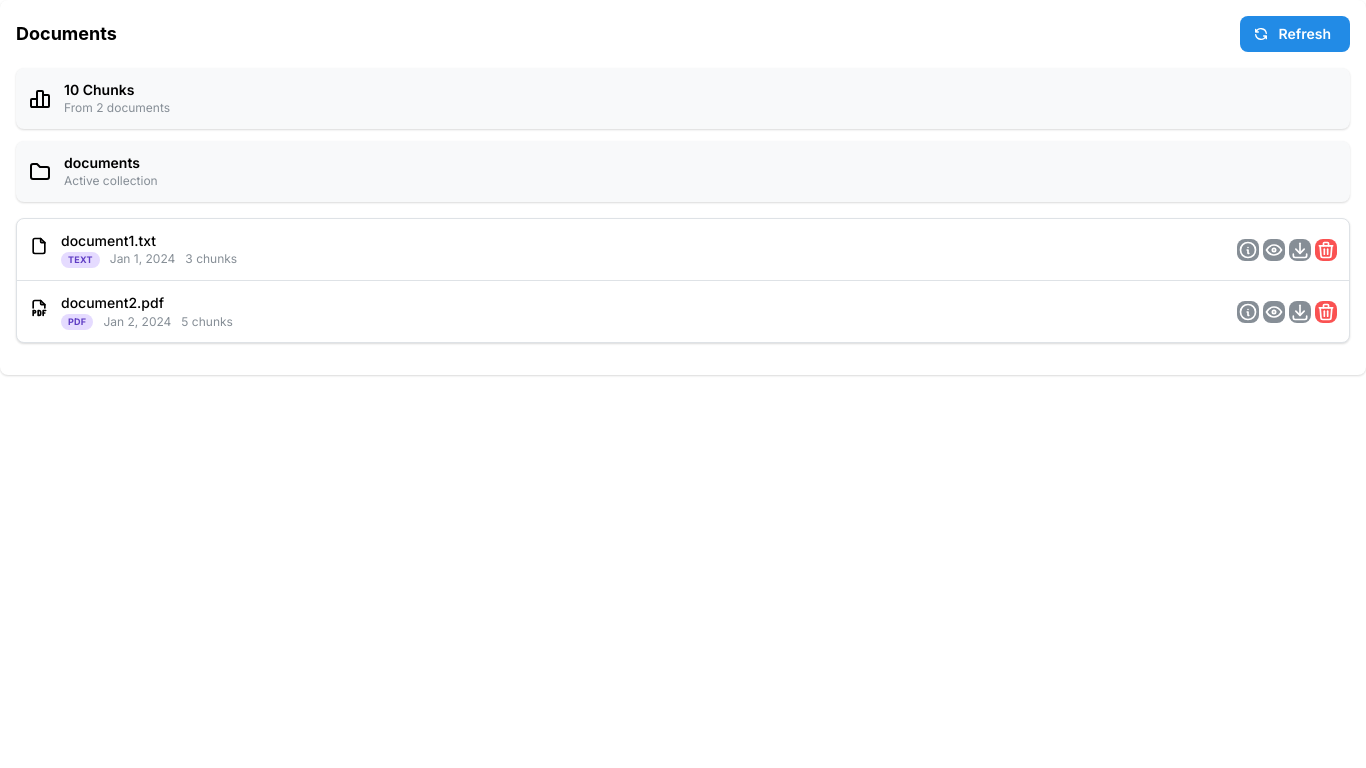
it: DocumentList › should open details modal when view details button is clicked
The width and height of the screenshot is (1366, 768).
Expected: the text "document1.txt" is shown, [61,232,156,249]
Click the button named "View details for document1.txt" at (1248, 250), box [1237,239,1259,261]
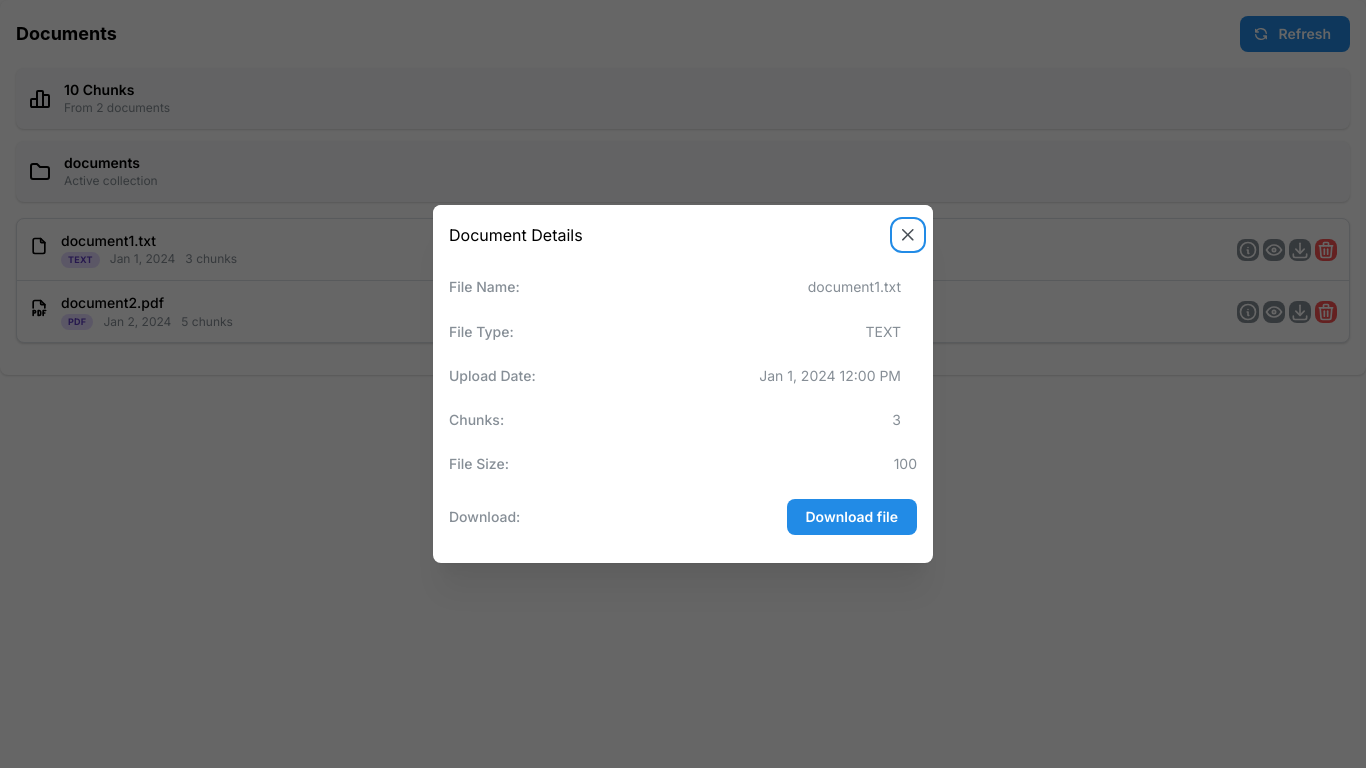
Expected: the heading "Document Details" is shown, [449,227,583,243]
